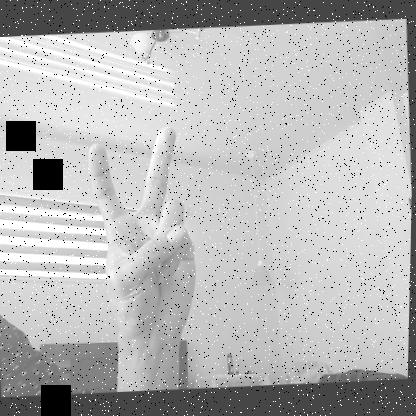V: (82, 117, 206, 354)
